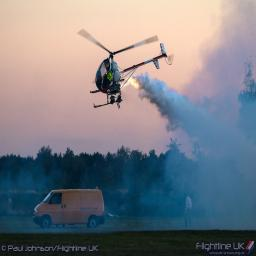helicopter: (77, 31, 179, 109)
